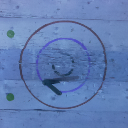Axe Tip: (49, 78, 61, 82)
